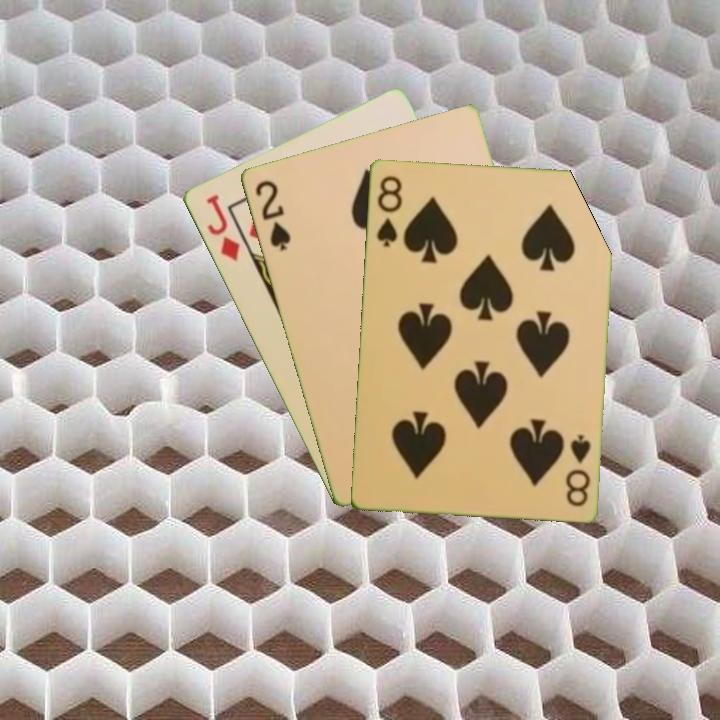2s: (251, 176, 293, 254)
8s: (372, 172, 405, 249), (561, 430, 593, 509)
Jd: (202, 190, 243, 264)
